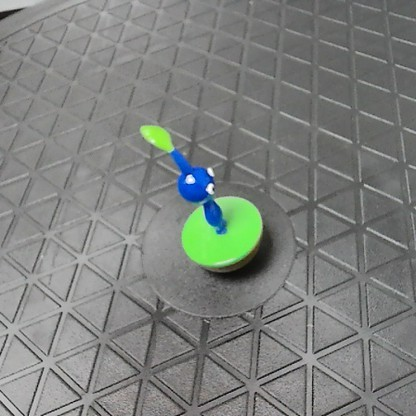leafairy: (135, 119, 264, 275)
